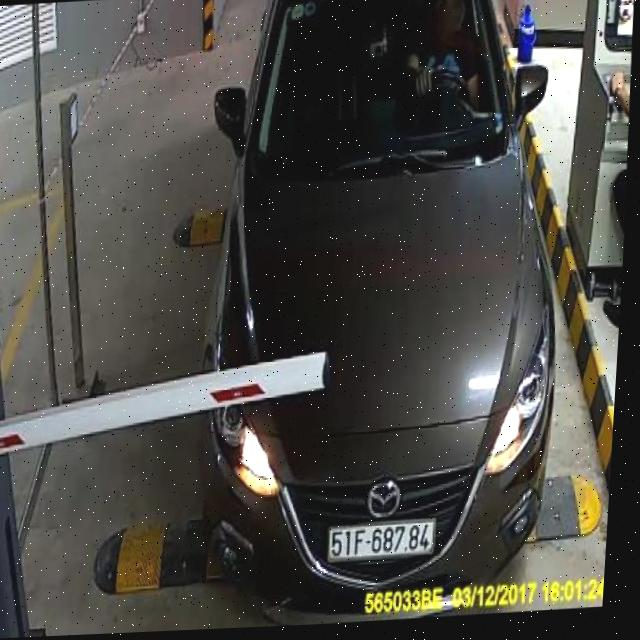car: (177, 0, 586, 602)
plate: (323, 517, 439, 568)
